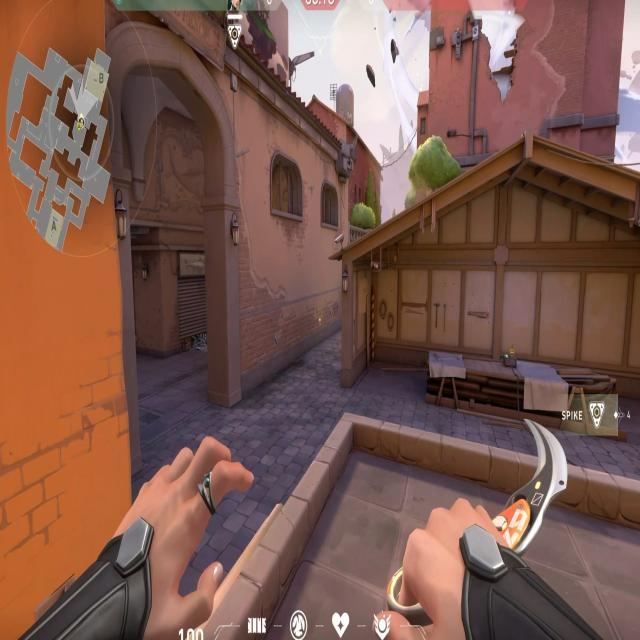B_Garage_Left: (334, 238, 438, 398)
Throwables: (264, 141, 309, 228), (318, 177, 343, 234)
